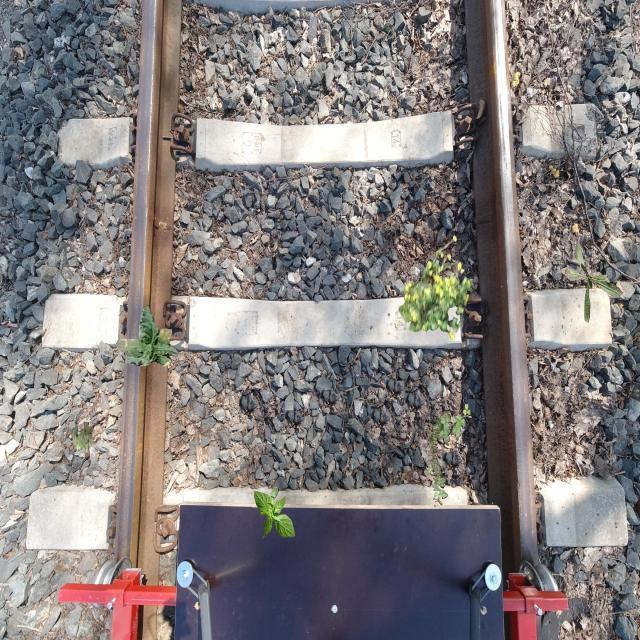Plant: (398, 235, 473, 340), (560, 239, 624, 323), (424, 404, 472, 508), (115, 305, 178, 367), (254, 486, 296, 540), (69, 422, 95, 454)
